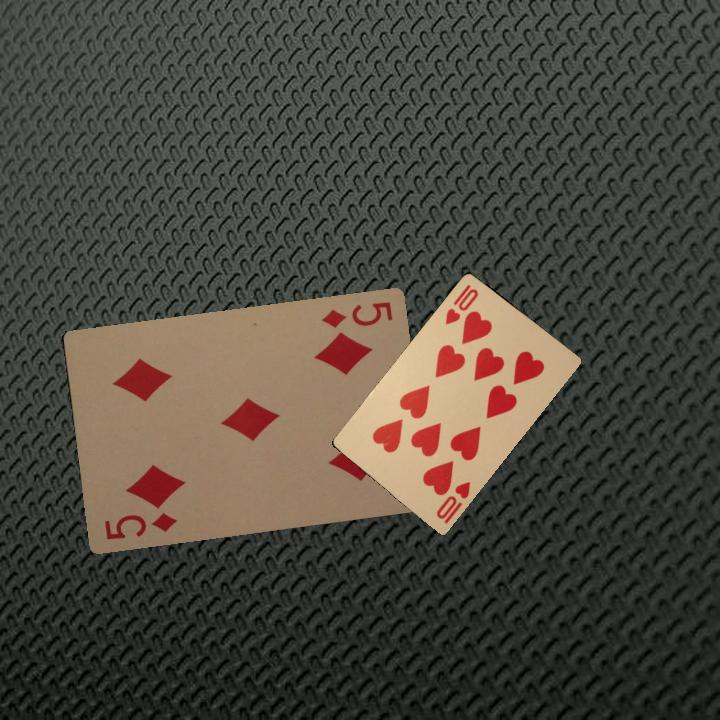10h: (432, 477, 473, 526), (441, 280, 481, 327)
5d: (100, 508, 179, 543), (318, 297, 396, 330)
